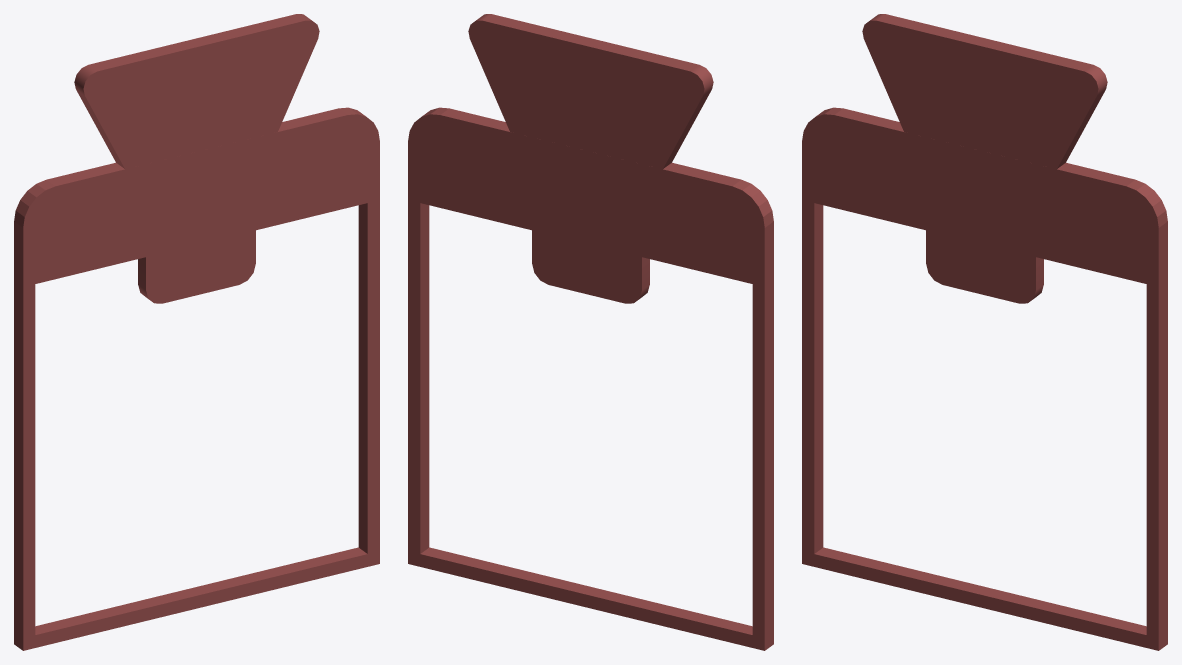
The model's file is GateBase.fbx.
3 views of the same model, side by side, from view 1: azimuth 30°, elevation 25°; view 2: azimuth 150°, elevation 25°; view 3: azimuth 330°, elevation 25° (orthographic).
Visible parts, largest first — view 1: Gate, pCube2, pCube1; view 2: Gate, pCube2, pCube1; view 3: Gate, pCube2, pCube1.
Boxes of the visible parts, x1=… form: Gate: x1=14, y1=107, x2=379, y2=650; pCube2: x1=74, y1=14, x2=319, y2=169; pCube1: x1=138, y1=230, x2=255, y2=303; Gate: x1=408, y1=107, x2=773, y2=650; pCube2: x1=468, y1=14, x2=713, y2=169; pCube1: x1=532, y1=230, x2=649, y2=303; Gate: x1=802, y1=107, x2=1167, y2=650; pCube2: x1=862, y1=14, x2=1107, y2=169; pCube1: x1=926, y1=230, x2=1043, y2=303.
Size of the model in its own units: 575 by 865 by 25.5.
